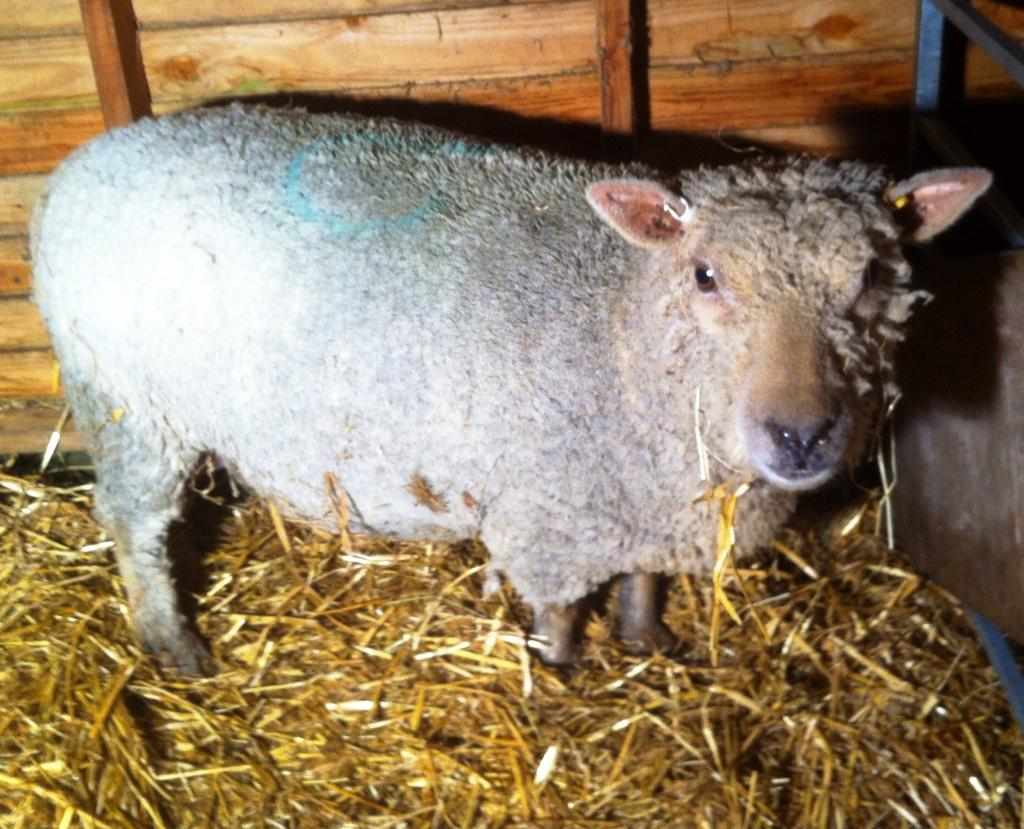Sheep: (14, 82, 974, 716)
